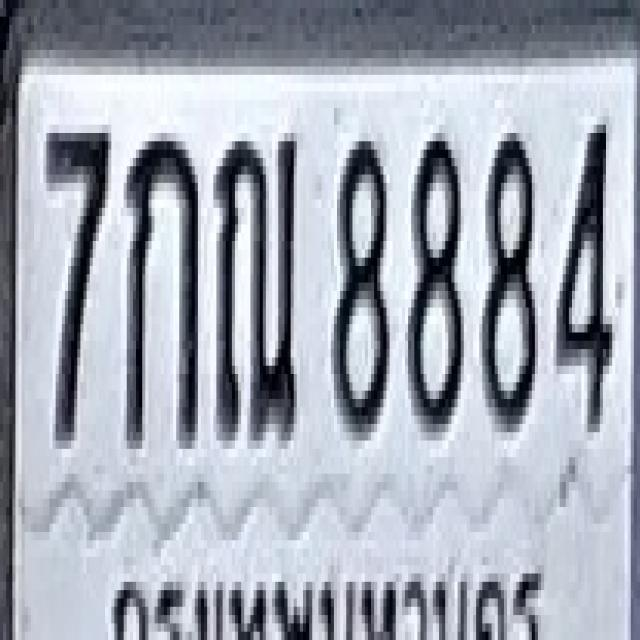4: (555, 121, 611, 428)
7: (46, 124, 108, 440)
8: (332, 133, 388, 432), (407, 129, 462, 428), (481, 129, 536, 428)
A01: (124, 129, 198, 445)
A19: (213, 124, 297, 440)
